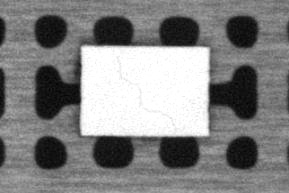DIE_CRACK: (114, 56, 176, 125)
